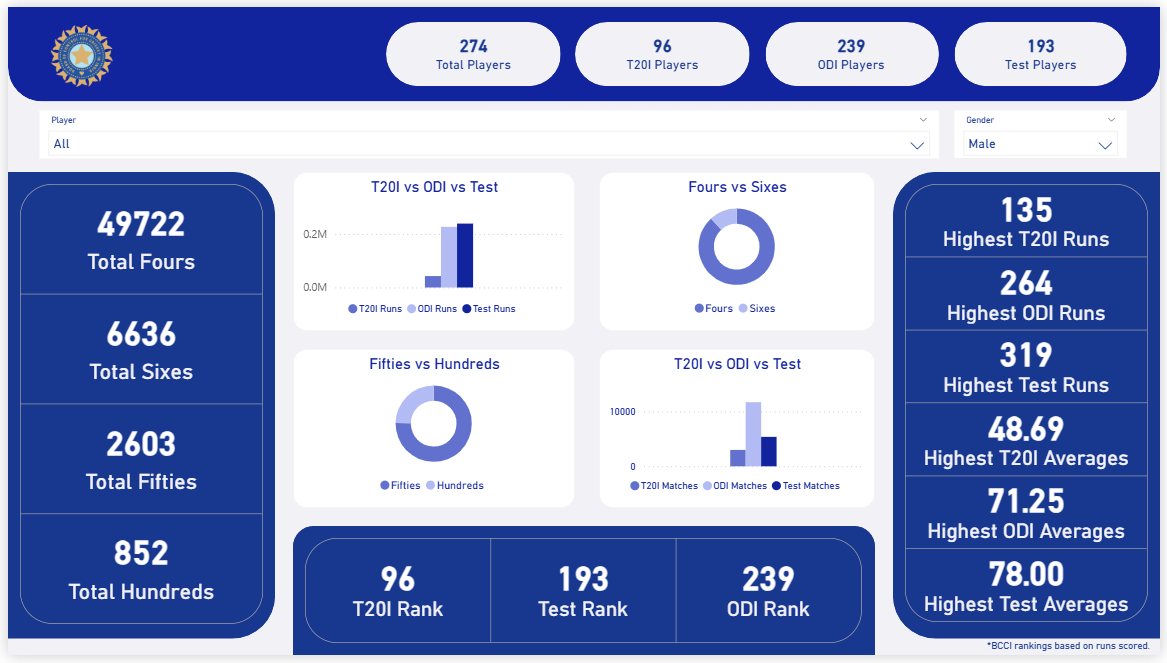

This screenshot's page, from the dashboard's own definition file:
{"tool":"powerbi","page":{"name":"Men's Overview","canvas":[1280,720],"ordinal":1},"visuals":[{"type":"shape","box":[0,0,1280,105],"z":0},{"type":"image","box":[34.2,20,94.2,68.3],"z":1000},{"type":"slicer","title":"Gender","fields":{"Values":["Player_Data.Gender"]},"box":[1051.4,115.7,191.4,52.9],"z":3000},{"type":"group","id":"g1","title":"Group 1","box":[420,16.7,194.3,71.4],"z":4000},{"type":"group","id":"g2","title":"Group 2","box":[629.2,16.7,194.2,70.8],"z":5000},{"type":"group","id":"g3","title":"Group 3","box":[839.6,16.7,195,71.7],"z":6000},{"type":"group","id":"g4","title":"Group 4","box":[1050.8,16.7,192.5,71.7],"z":7000},{"type":"group","id":"g5","title":"Group 5","box":[0,183.3,296.7,518.3],"z":8000},{"type":"slicer","fields":{"Values":["Player_Data.Player"]},"box":[34.2,115,999.2,53.3],"z":9000},{"type":"group","id":"g6","title":"Group 6","box":[983.3,183.3,296.7,518.3],"z":10000},{"type":"clusteredColumnChart","title":"T20I vs ODI vs Test","fields":{"Y":["Sum(Player_Data.T20I_Runs)","Sum(Player_Data.ODI_Runs)","Sum(Player_Data.Test_Runs)"]},"box":[316.7,183.3,313.3,176.7],"z":11000},{"type":"shape","box":[420,16.7,194.3,71.4],"z":12000,"group":"g1"},{"type":"donutChart","title":"Fours vs Sixes","fields":{"Y":["Player_Data.Total_Fours","Player_Data.Total_Sixes"]},"box":[656.7,183.3,306.7,176.7],"z":12000},{"type":"shape","box":[629.2,16.7,194.3,71.4],"z":12500,"group":"g2"},{"type":"clusteredColumnChart","title":"T20I vs ODI vs Test","fields":{"Y":["Sum(Player_Data.T20I_Matches)","Sum(Player_Data.ODI_Matches)","Sum(Player_Data.Test_Matches)"]},"box":[656.7,380,306.7,176.7],"z":13000},{"type":"group","id":"g7","title":"Group 7","box":[316.7,576.7,646.7,143.3],"z":14000},{"type":"donutChart","title":"Fifties vs Hundreds","fields":{"Y":["Player_Data.Total_Fifties","Player_Data.Total_Hundreds"]},"box":[316.7,380,313.3,176.7],"z":15000},{"type":"textbox","box":[1076.9,695.4,203.1,24.6],"z":16000},{"type":"shape","box":[840.4,16.7,192.9,71.4],"z":17000,"group":"g3"},{"type":"cardVisual","title":"Number of Player","fields":{"Data":["Player_Data.Total_Players"]},"box":[421.6,16.7,191.4,71.4],"z":19000,"group":"g1"},{"type":"shape","box":[0,183.3,296.7,518.3],"z":19001,"group":"g5"},{"type":"shape","box":[983.3,183.3,296.7,518.3],"z":19001,"group":"g6"},{"type":"shape","box":[316.7,576.7,646.7,143.3],"z":19001,"group":"g7"},{"type":"cardVisual","fields":{"Data":["Player_Data.ODI_Players"]},"box":[839.6,16.7,194.3,71.4],"z":19500,"group":"g3"},{"type":"cardVisual","fields":{"Data":["Player_Data.Max_T20i","Player_Data.Max_Odi","Player_Data.Max_Test","Player_Data.Max_Avg_T20i","Player_Data.Max_Avg_Odi","Player_Data.Max_Avg_Test"]},"box":[983.3,183.3,296.7,518.3],"z":19501,"group":"g6"},{"type":"cardVisual","fields":{"Data":["Player_Data.Total_Fours","Player_Data.Total_Sixes","Player_Data.Total_Fifties","Player_Data.Total_Hundreds"]},"box":[0,183.4,296.6,518.2],"z":19501,"group":"g5"},{"type":"cardVisual","fields":{"Data":["Max(Player_Data.T20I_Rank)","Max(Player_Data.ODI_Rank)","Max(Player_Data.Test_Rank)"]},"box":[316.7,576.7,646.7,143.3],"z":19501,"group":"g7"},{"type":"shape","box":[1051.3,16.7,191.4,71.4],"z":20500,"group":"g4"},{"type":"cardVisual","fields":{"Data":["Player_Data.Test_Players"]},"box":[1050.8,16.7,192.9,71.4],"z":21000,"group":"g4"},{"type":"cardVisual","fields":{"Data":["Player_Data.T20I_Players"]},"box":[630.8,16.7,191.4,71.4],"z":21500,"group":"g2"}]}

Visuals, with their boxes in screenshot pixels (x1, y1, x2, y2), scaled from the page's 1280x720 canvas onto the 1167x663 screenshot:
shape: {"x1": 0, "y1": 0, "x2": 1166, "y2": 97}
image: {"x1": 31, "y1": 18, "x2": 117, "y2": 81}
"Gender" slicer: {"x1": 959, "y1": 107, "x2": 1133, "y2": 155}
"Group 1" group: {"x1": 383, "y1": 15, "x2": 560, "y2": 81}
"Group 2" group: {"x1": 574, "y1": 15, "x2": 751, "y2": 81}
"Group 3" group: {"x1": 765, "y1": 15, "x2": 943, "y2": 81}
"Group 4" group: {"x1": 958, "y1": 15, "x2": 1134, "y2": 81}
"Group 5" group: {"x1": 0, "y1": 169, "x2": 271, "y2": 646}
slicer - Player_Data.Player: {"x1": 31, "y1": 106, "x2": 942, "y2": 155}
"Group 6" group: {"x1": 896, "y1": 169, "x2": 1166, "y2": 646}
"T20I vs ODI vs Test" clusteredColumnChart: {"x1": 289, "y1": 169, "x2": 574, "y2": 332}
shape: {"x1": 383, "y1": 15, "x2": 560, "y2": 81}
"Fours vs Sixes" donutChart: {"x1": 599, "y1": 169, "x2": 878, "y2": 332}
shape: {"x1": 574, "y1": 15, "x2": 751, "y2": 81}
"T20I vs ODI vs Test" clusteredColumnChart: {"x1": 599, "y1": 350, "x2": 878, "y2": 513}
"Group 7" group: {"x1": 289, "y1": 531, "x2": 878, "y2": 662}
"Fifties vs Hundreds" donutChart: {"x1": 289, "y1": 350, "x2": 574, "y2": 513}
textbox: {"x1": 982, "y1": 640, "x2": 1166, "y2": 662}
shape: {"x1": 766, "y1": 15, "x2": 942, "y2": 81}
"Number of Player" cardVisual: {"x1": 384, "y1": 15, "x2": 559, "y2": 81}
shape: {"x1": 0, "y1": 169, "x2": 271, "y2": 646}
shape: {"x1": 896, "y1": 169, "x2": 1166, "y2": 646}
shape: {"x1": 289, "y1": 531, "x2": 878, "y2": 662}
cardVisual - Player_Data.ODI_Players: {"x1": 765, "y1": 15, "x2": 943, "y2": 81}
cardVisual - Player_Data.Max_T20i x Player_Data.Max_Odi: {"x1": 896, "y1": 169, "x2": 1166, "y2": 646}
cardVisual - Player_Data.Total_Fours x Player_Data.Total_Sixes: {"x1": 0, "y1": 169, "x2": 270, "y2": 646}
cardVisual - Max(Player_Data.T20I_Rank) x Max(Player_Data.ODI_Rank): {"x1": 289, "y1": 531, "x2": 878, "y2": 662}
shape: {"x1": 958, "y1": 15, "x2": 1133, "y2": 81}
cardVisual - Player_Data.Test_Players: {"x1": 958, "y1": 15, "x2": 1134, "y2": 81}
cardVisual - Player_Data.T20I_Players: {"x1": 575, "y1": 15, "x2": 750, "y2": 81}
